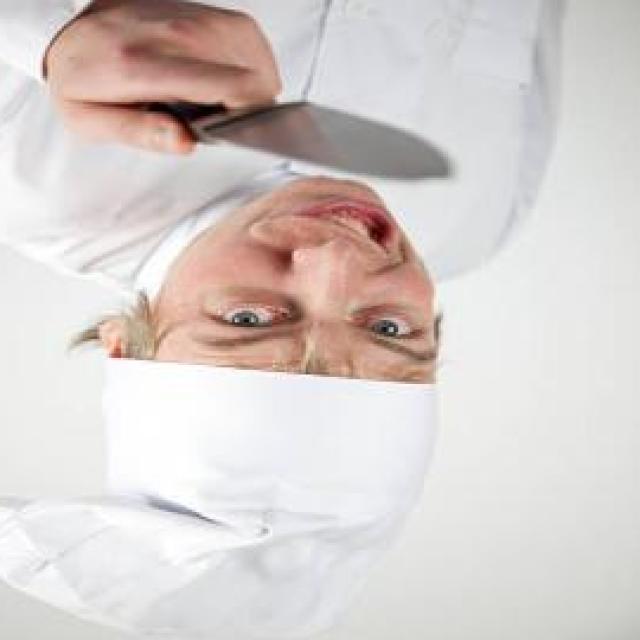knife: (26, 44, 465, 185)
